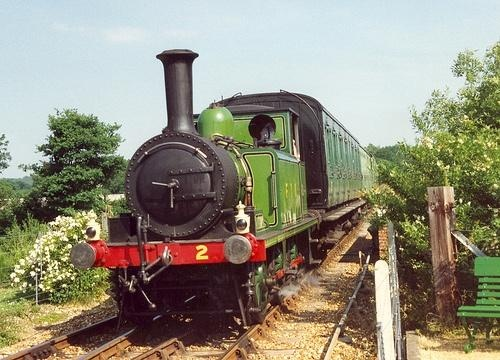train: (68, 50, 381, 324)
